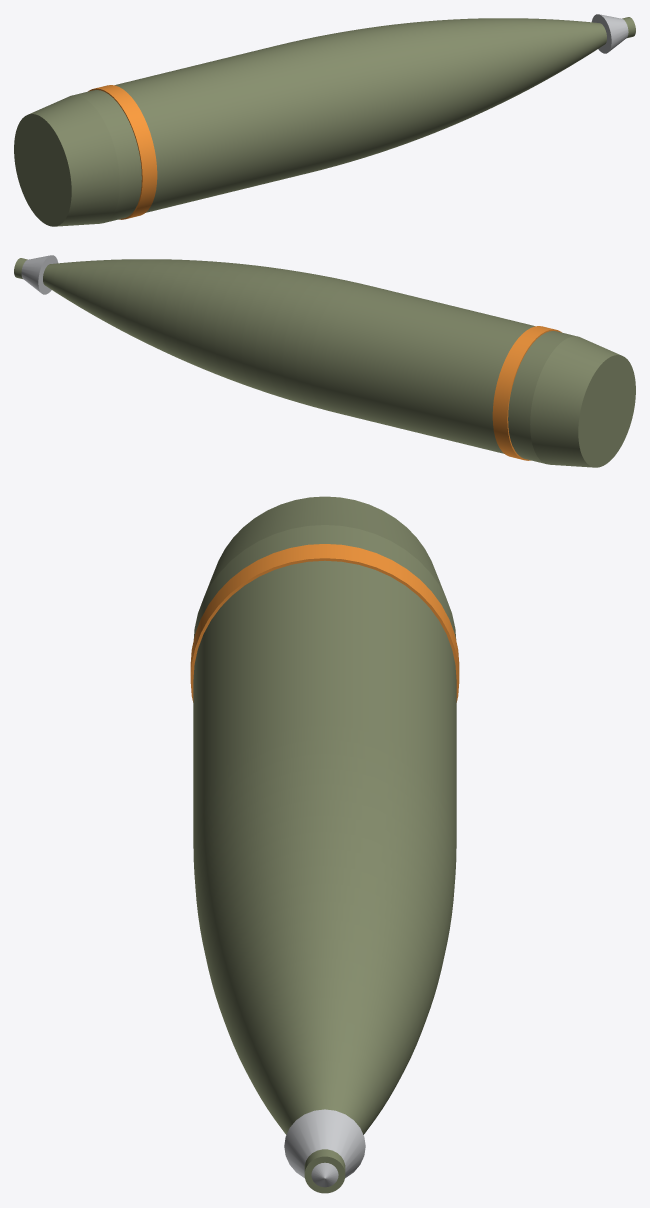
3 renders of one model, top to bottom at view 1: azimuth 30°, elevation 25°; view 2: azimuth 150°, elevation 25°; view 3: azimuth 270°, elevation 25°, orthographic. The views are drawn at different scales.
Parts seen in each view (by area): view 1: body, band, fuze; view 2: body, band, fuze; view 3: body, band, fuze.
Part boxes in pixels (<box>): body: <box>14,17,635,226</box>; band: <box>88,85,157,219</box>; fuze: <box>591,14,628,53</box>; body: <box>14,258,635,467</box>; band: <box>492,326,561,460</box>; fuze: <box>21,255,58,294</box>; body: <box>193,496,456,1193</box>; band: <box>190,544,459,702</box>; fuze: <box>284,1109,365,1187</box>.
Size of the model in its own units: 0.805 by 0.1584 by 0.1584.
